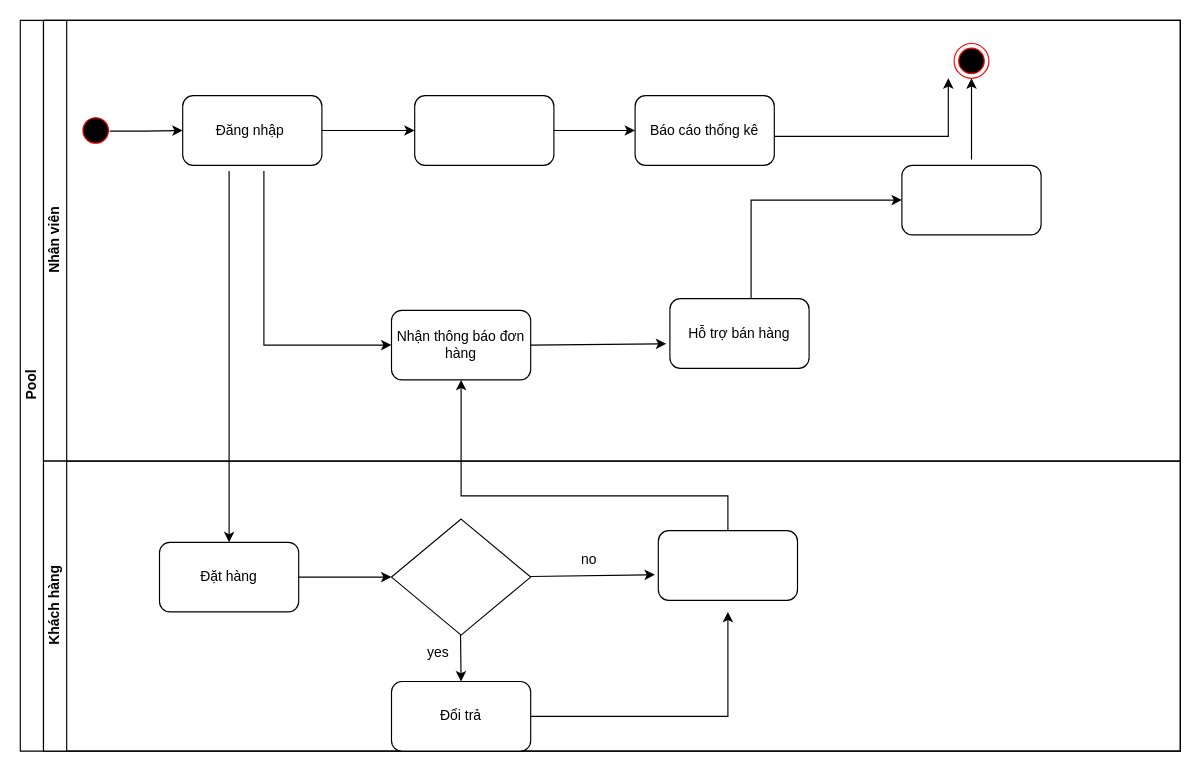
Some shapes in this 1201 by 771 pixel diagram are drawn without their labels. Each missing label, with the centre of its shape:
Cập nhật sản phẩm: (484,130)
sai sót trong qt đặt hàng: (460,576)
Thanh toán: (727,565)
Theo dõi đơn hàng: (971,199)
